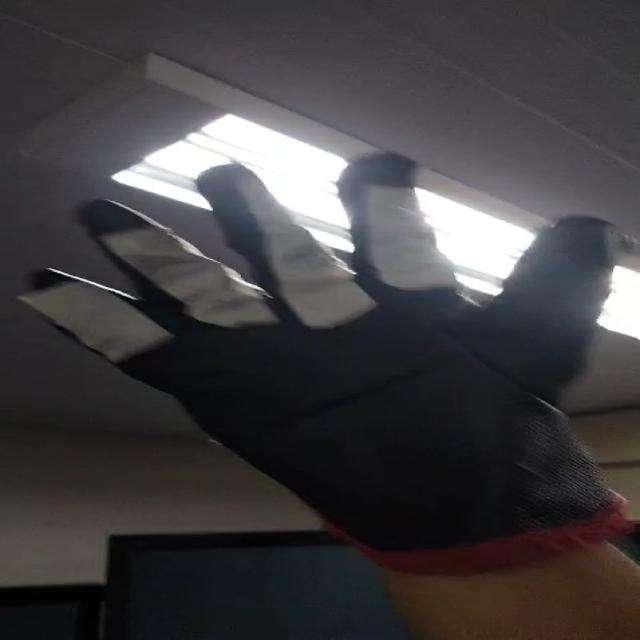Gloves: (20, 147, 640, 568)
